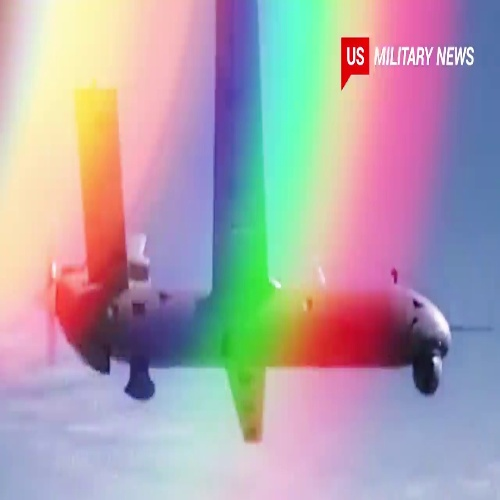uav218: (31, 2, 456, 446)
